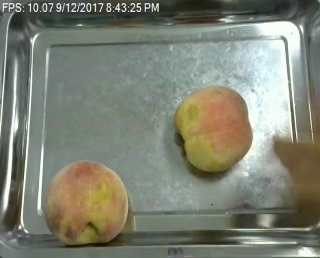Peach: (44, 159, 129, 245), (174, 85, 252, 171)
